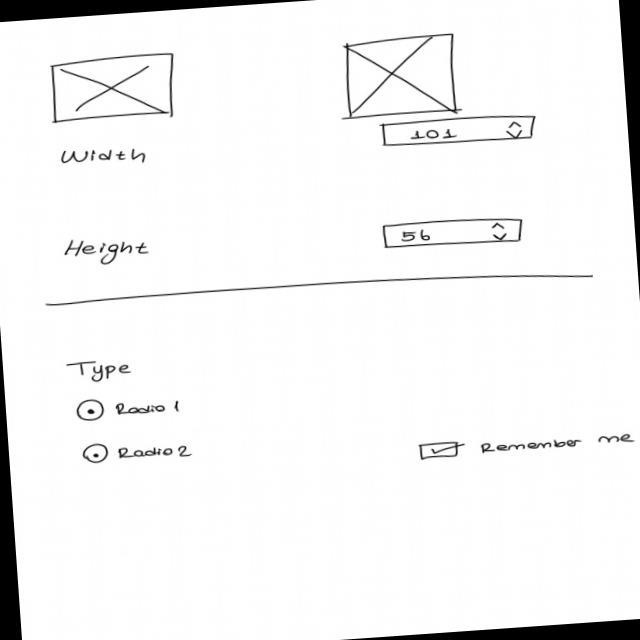checkbox: (416, 428, 639, 462)
image: (341, 34, 462, 123), (48, 52, 180, 126)
label: (61, 234, 154, 269), (59, 143, 150, 171), (65, 357, 135, 385)
number-input: (380, 112, 540, 151), (381, 215, 526, 254)
radio: (82, 437, 197, 467), (76, 393, 182, 425)
